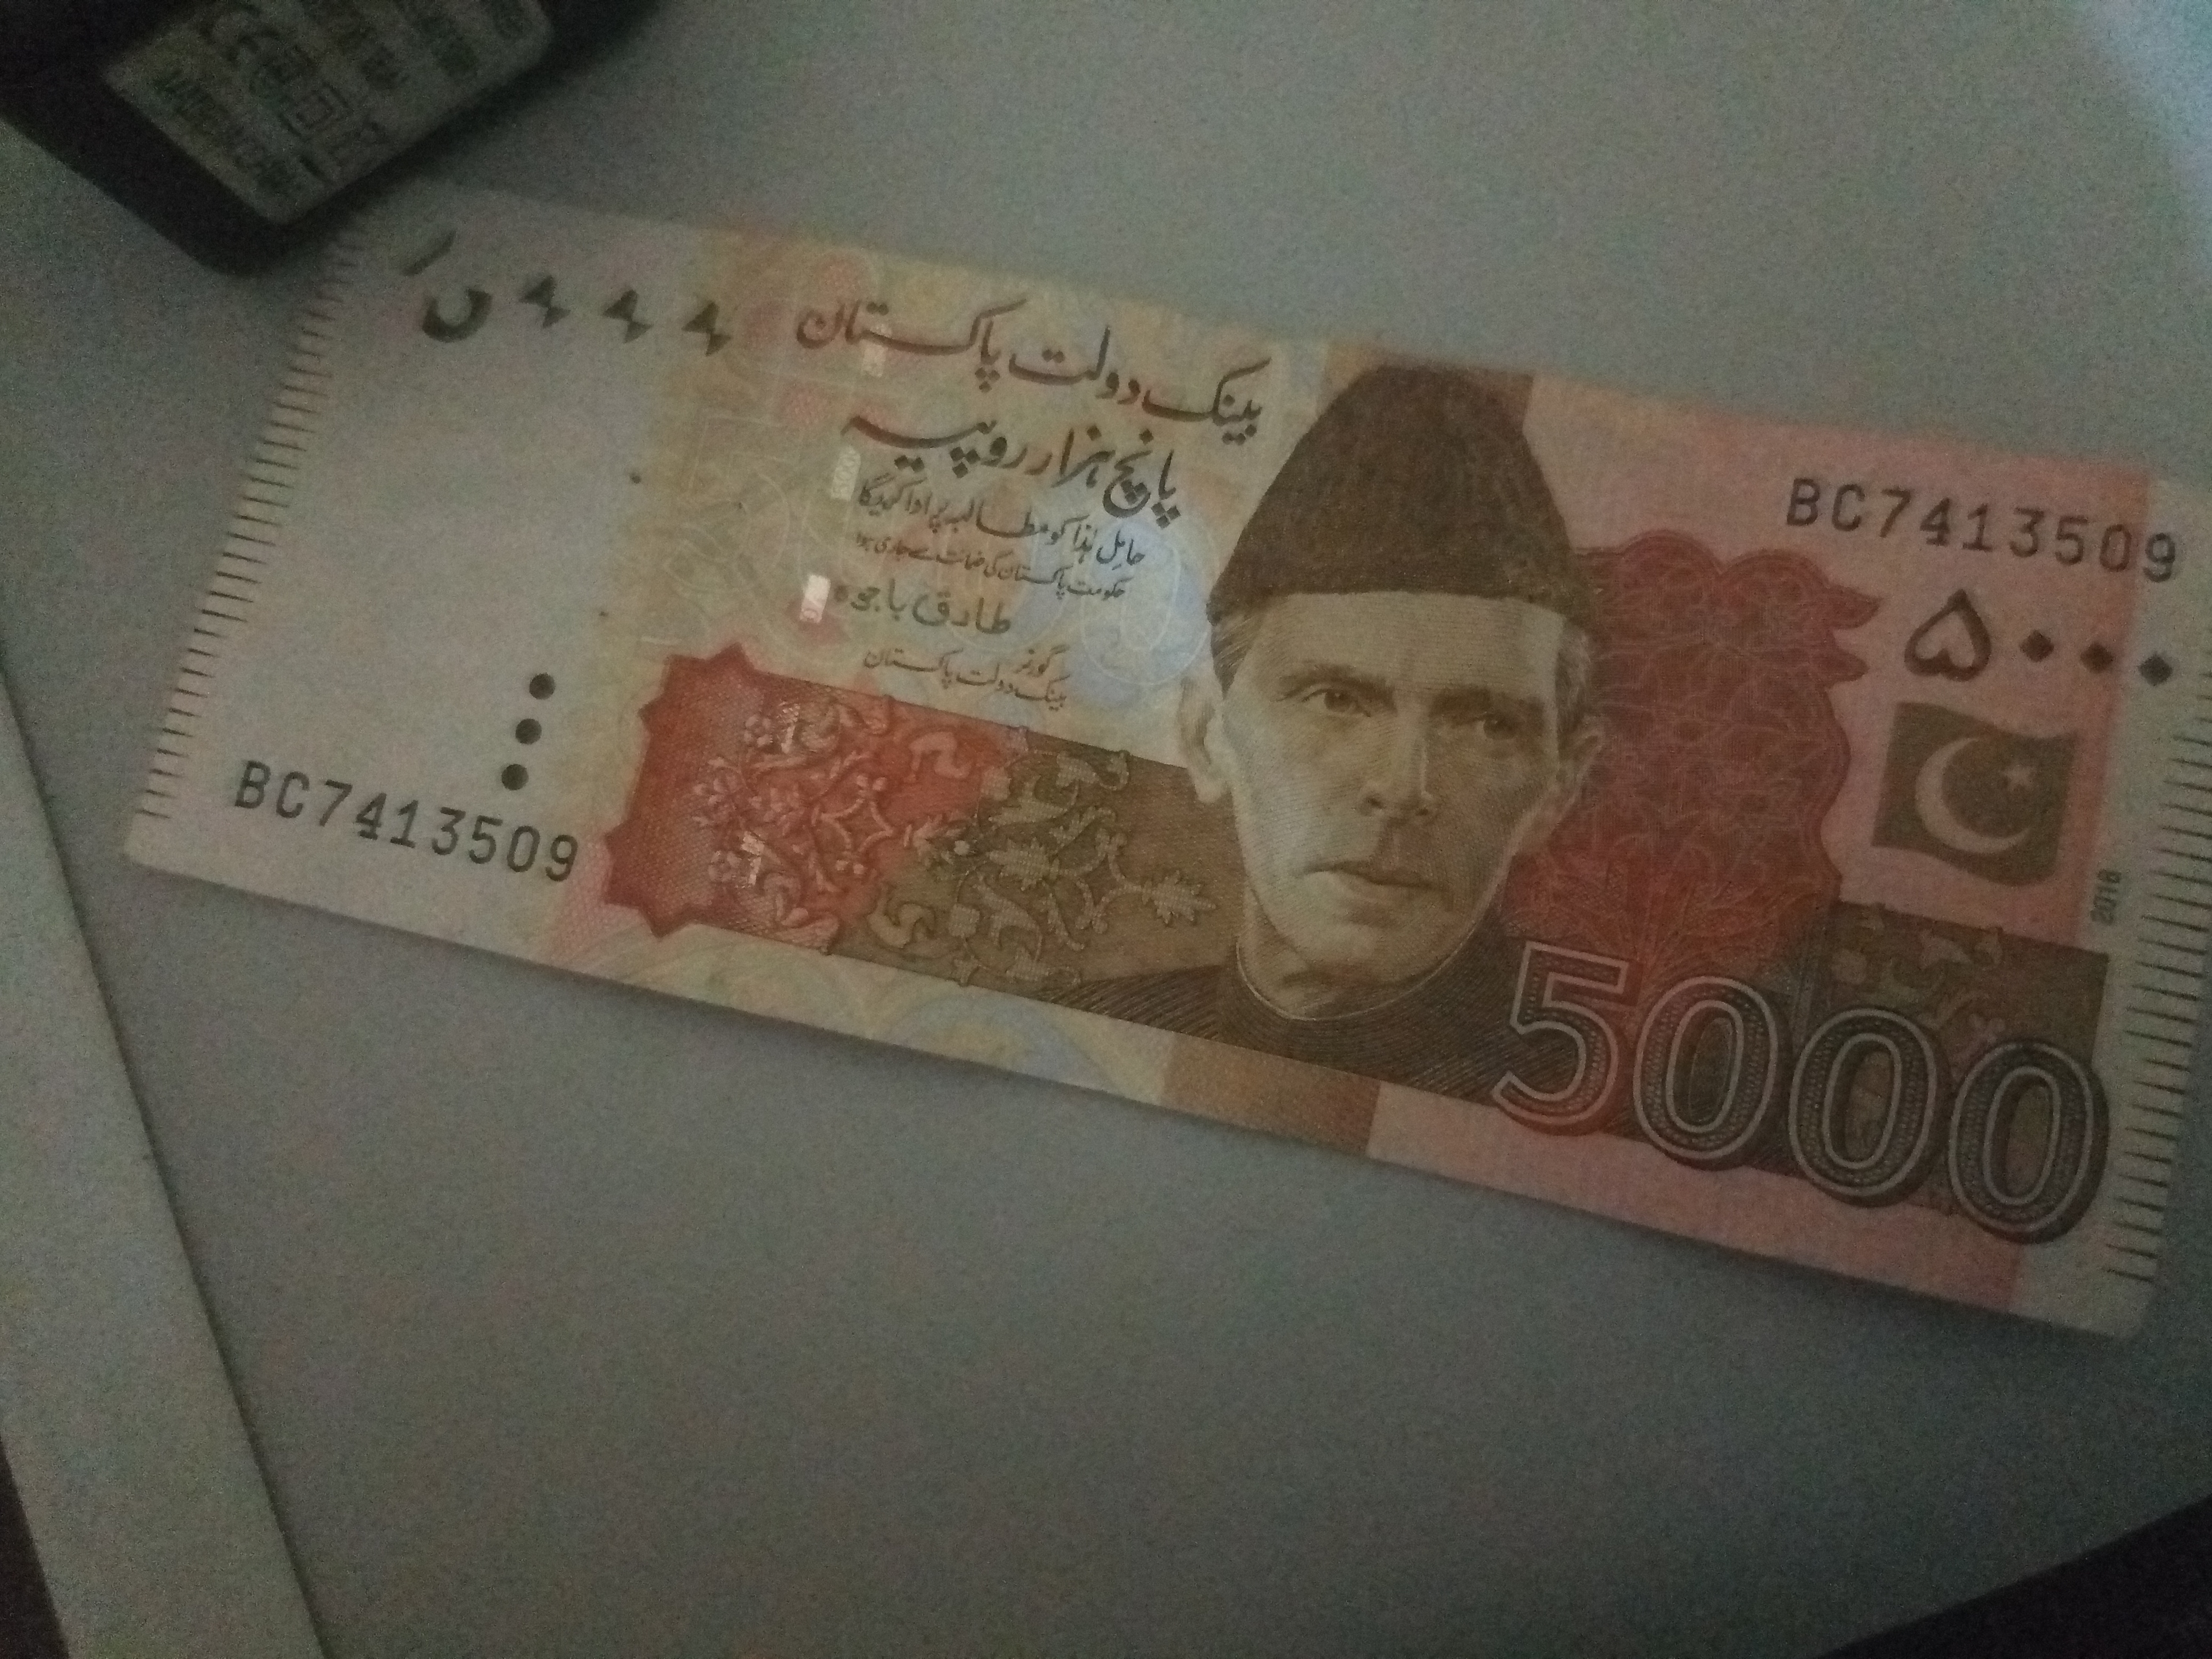5000 rupee: (171, 155, 2200, 1366)
